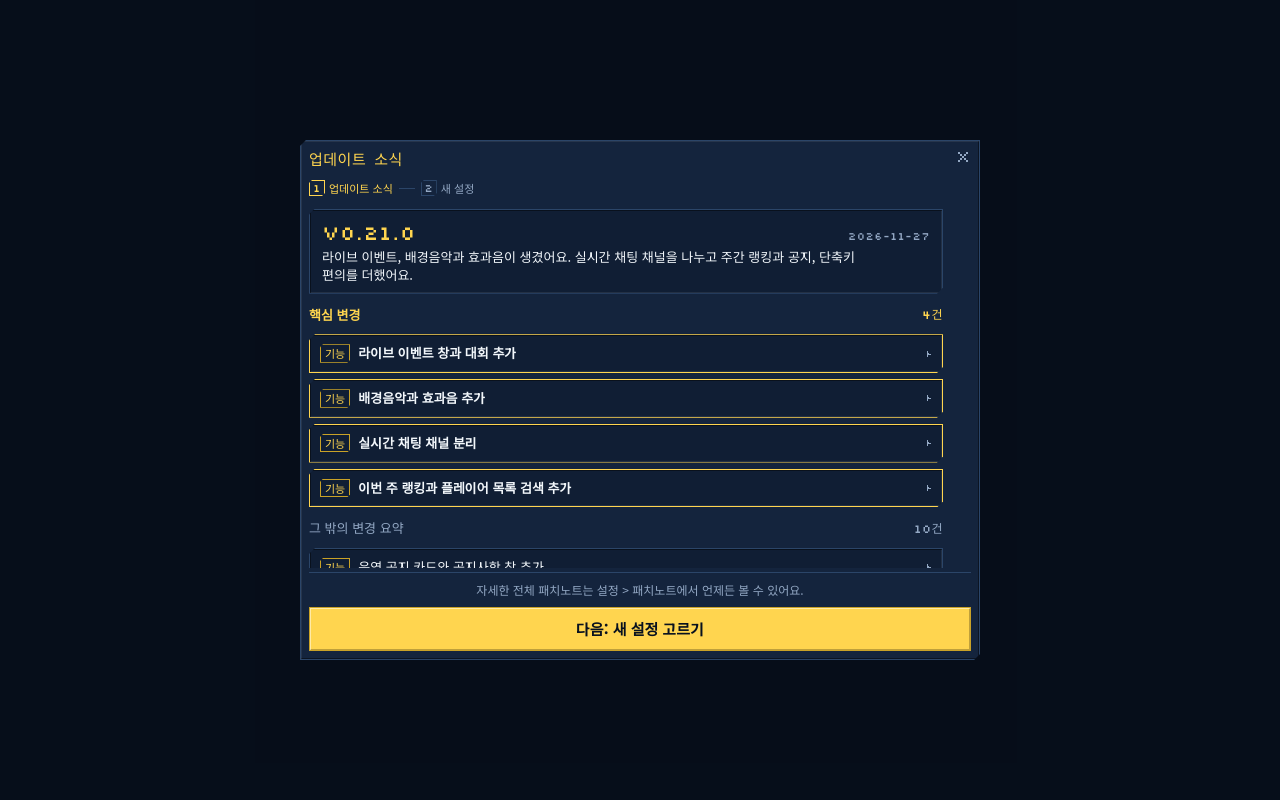
Test: WhatsNewModal 하단 패치노트 안내 › 소식 단계에서 하단 안내를 보이고, 새 설정 단계로 넘어가면 감춘다
Expected: the dialog "업데이트 소식" is shown, [300,140,980,660]
Expected: the text "자세한 전체 패치노트는 설정 > 패치노트에서 언제든 볼 수 있어요." is shown, [476,581,804,598]
Click the button "다음: 새 설정 고르기". click: click(640, 629)
box: [309,607,971,651]
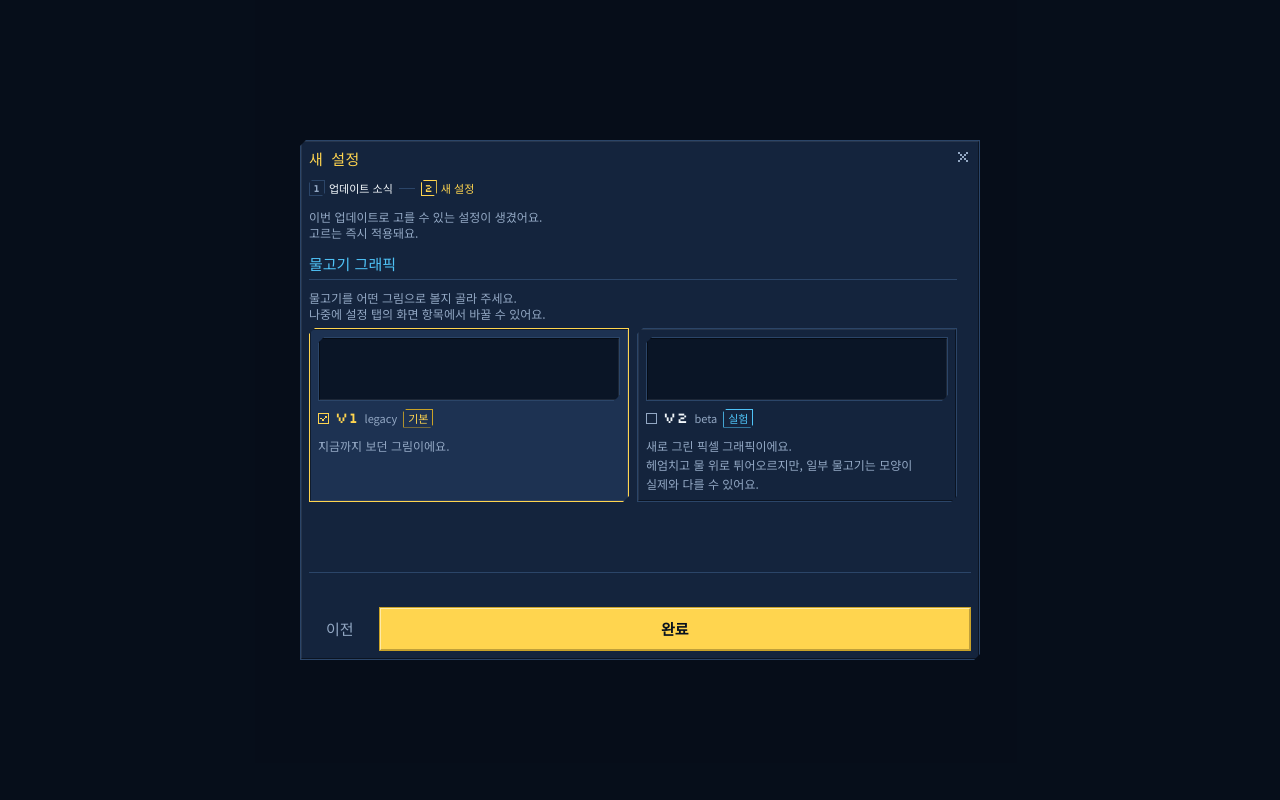
Expected: the dialog "새 설정" is shown, [300,140,980,660]
Expected: the text "자세한 전체 패치노트는 설정 > 패치노트에서 언제든 볼 수 있어요." is gone
